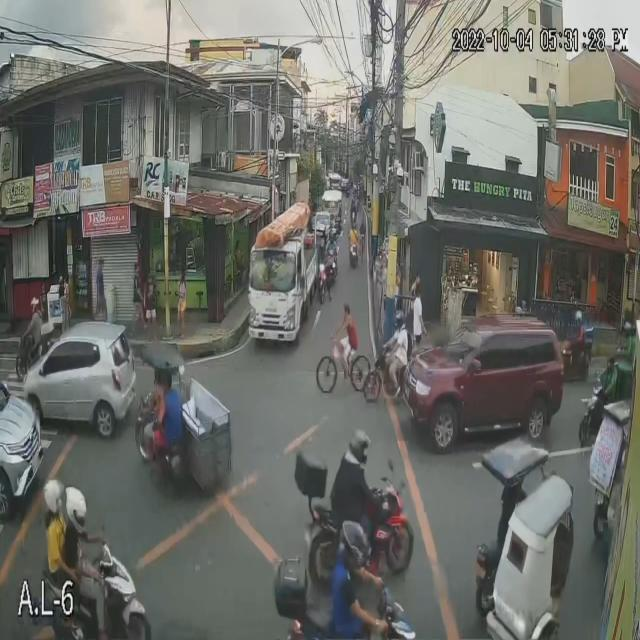full: (336, 520, 372, 578), (67, 486, 86, 535), (348, 430, 370, 464), (393, 311, 404, 331)
half: (43, 479, 65, 515)
